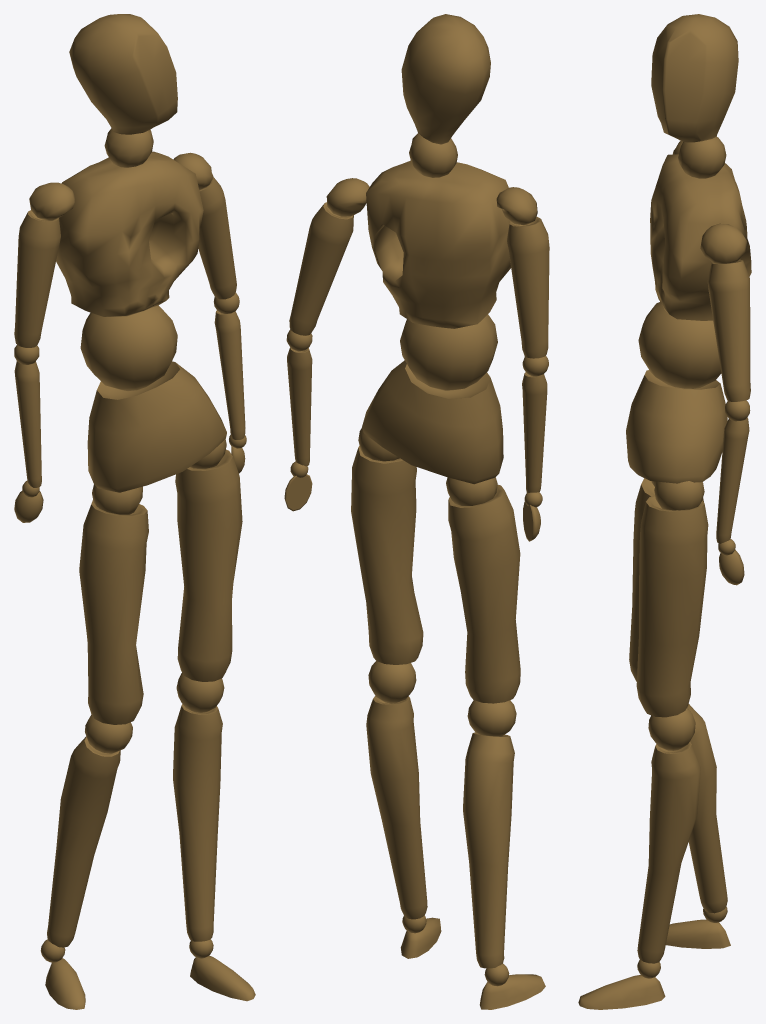
File: maniqui_pose16.fbx
The picture shows the model from 3 angles, left to right: view 1: azimuth 30°, elevation 25°; view 2: azimuth 150°, elevation 25°; view 3: azimuth 270°, elevation 25°; orthographic projection.
Visible parts, largest first — view 1: dummy_obj.005; view 2: dummy_obj.005; view 3: dummy_obj.005.
Boxes of the visible parts, bbox=[...] form: dummy_obj.005: bbox=[14, 14, 255, 1009]; dummy_obj.005: bbox=[284, 14, 549, 1009]; dummy_obj.005: bbox=[578, 14, 751, 1009].
Bounding box in the file's own units: 47.17 × 178 × 29.27.
